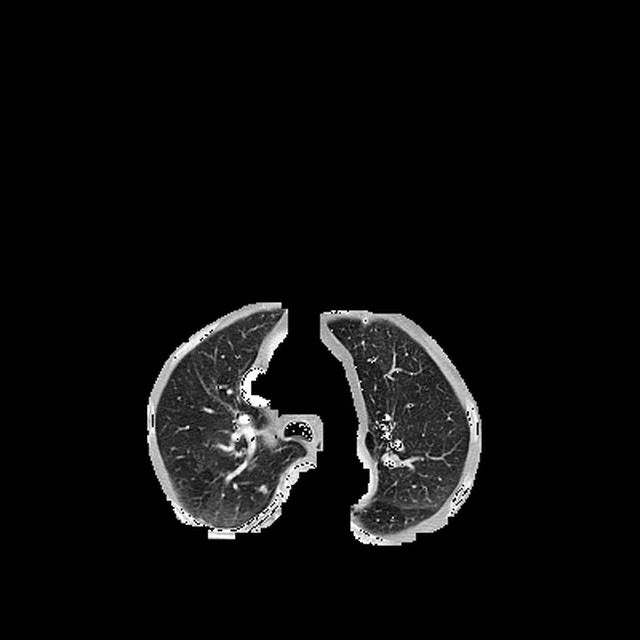PN: (258, 485, 267, 494)
